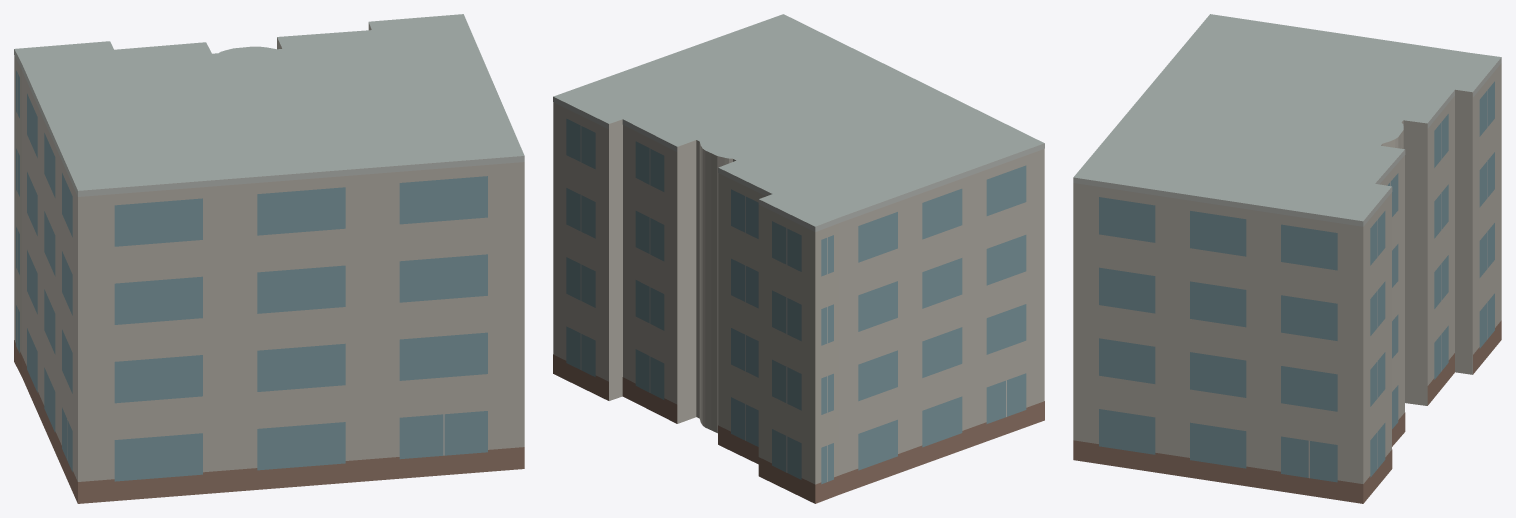
Rendered from survey-upis-32983644.glb.
3 renders of one model, left to right at view 1: azimuth 30°, elevation 25°; view 2: azimuth 150°, elevation 25°; view 3: azimuth 270°, elevation 25°, orthographic. The views are drawn at different scales.
Parts seen in each view (by area): view 1: survey-upis-32983644.tmp; view 2: survey-upis-32983644.tmp; view 3: survey-upis-32983644.tmp.
Part boxes in pixels (<box>): survey-upis-32983644.tmp: <box>14,14,524,503</box>; survey-upis-32983644.tmp: <box>553,14,1044,503</box>; survey-upis-32983644.tmp: <box>1073,14,1501,503</box>.
Size of the model in its own units: 19.52 by 12.4 by 17.05.
